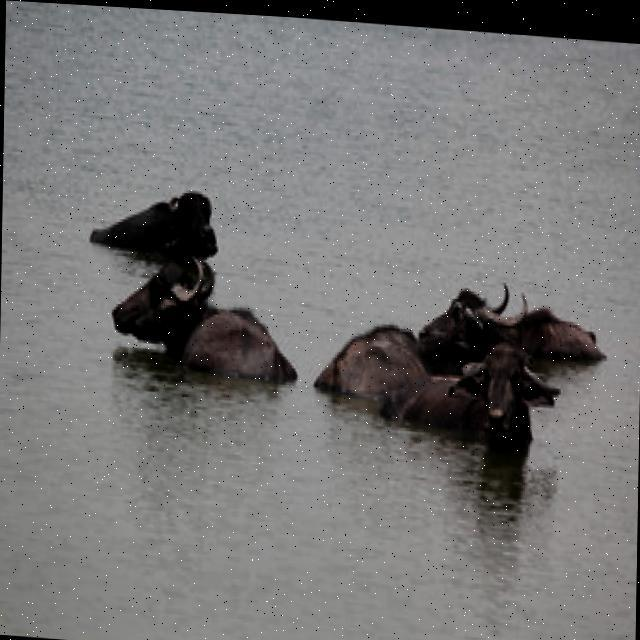Buffalo: (112, 249, 297, 393), (384, 326, 561, 449)
